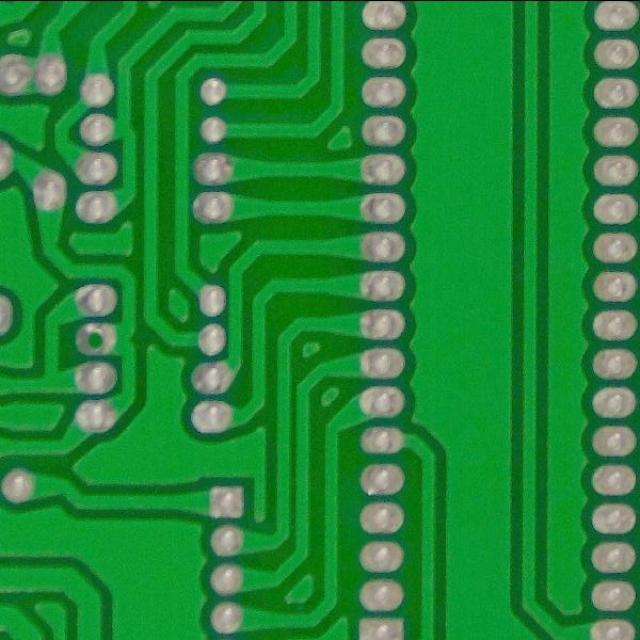missing_hole: (75, 318, 115, 360)
